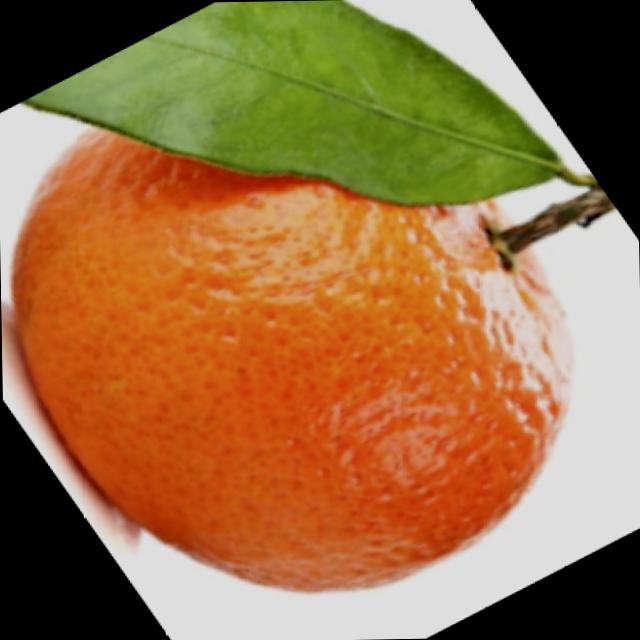orange: (0, 60, 613, 622)
